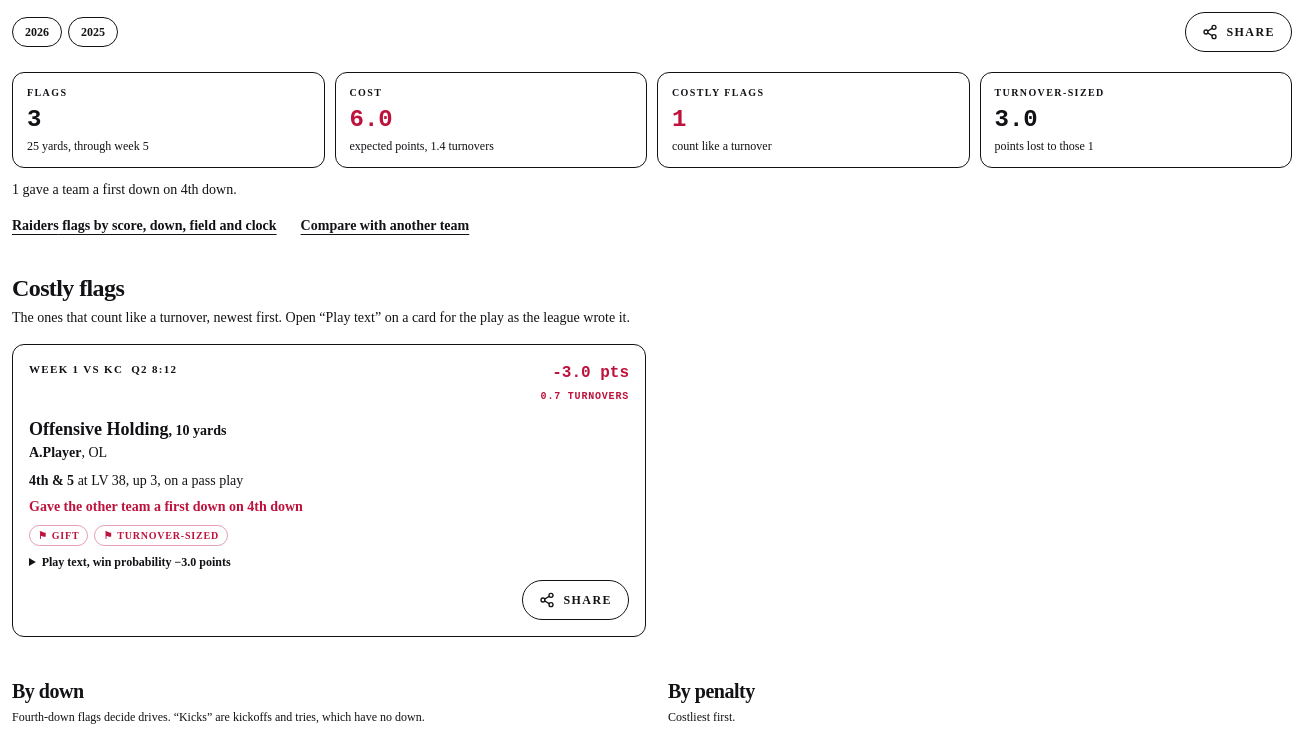
Test: <FlagsExplorer /> › switches seasons and says so when a team has no costly flag
Click the button "2025" at (93, 32), box [68, 17, 118, 47]
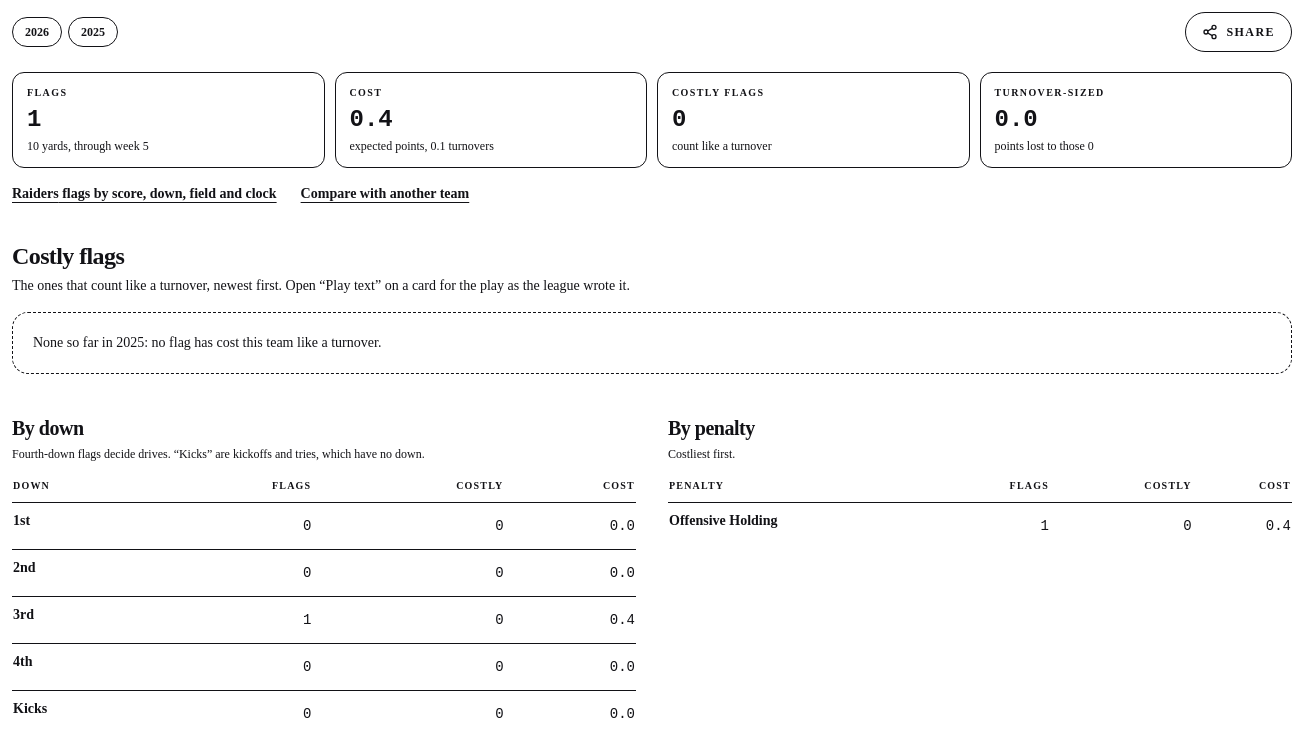
Now the text "None so far in 2025" is shown, box [12, 312, 1292, 374]
